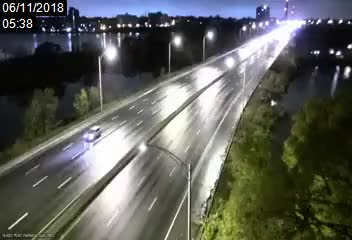personal_car: (83, 125, 100, 142)
